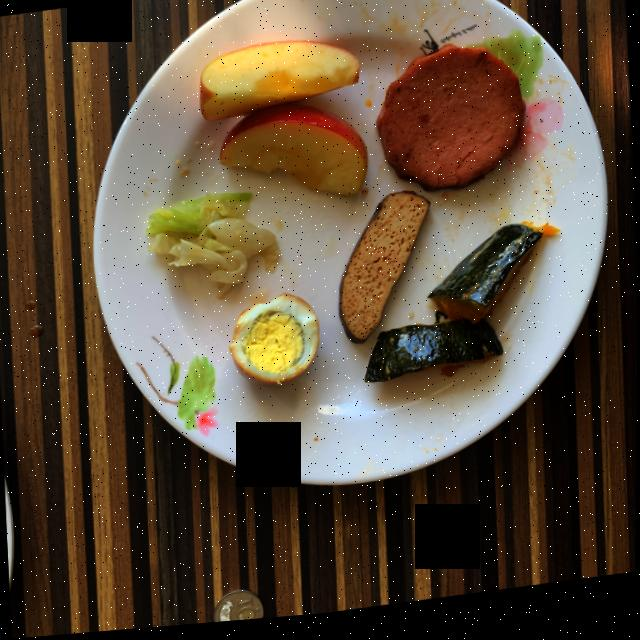Spam: (377, 52, 525, 198)
apple -sliced-: (200, 46, 368, 202)
cabbage: (147, 196, 280, 301)
coin: (215, 594, 265, 626)
firm tofu: (340, 198, 430, 348)
pumpkin: (366, 233, 544, 389)
soy egg: (231, 298, 320, 391)
